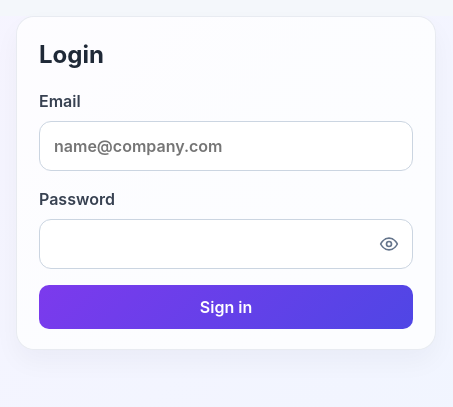
Test: Login page › sends the password exactly as typed (spaces kept) and the email trimmed
Type "  ops@northwind.com  " into the field labelled "Email" at (226, 146), box [39,121,413,171]
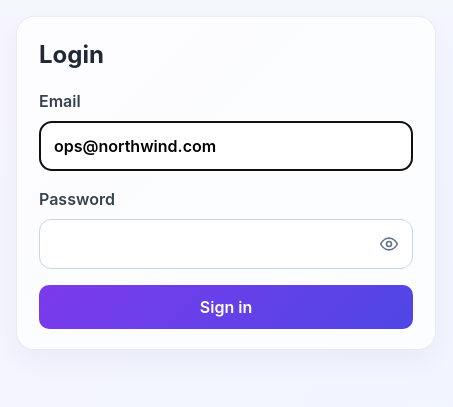
Type " pass with spaces " into the password field labelled "Password" at (226, 244), box [39,219,413,269]
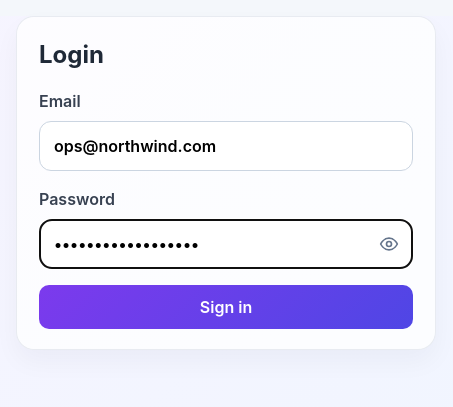
Click the button "Sign in" at (226, 307), box [39,285,413,329]
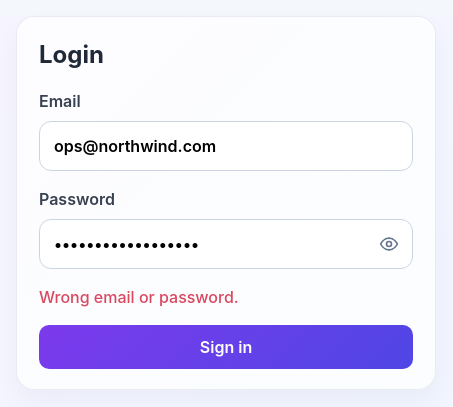
Result: the message "Wrong email or password." is shown at [39,287,239,307]
